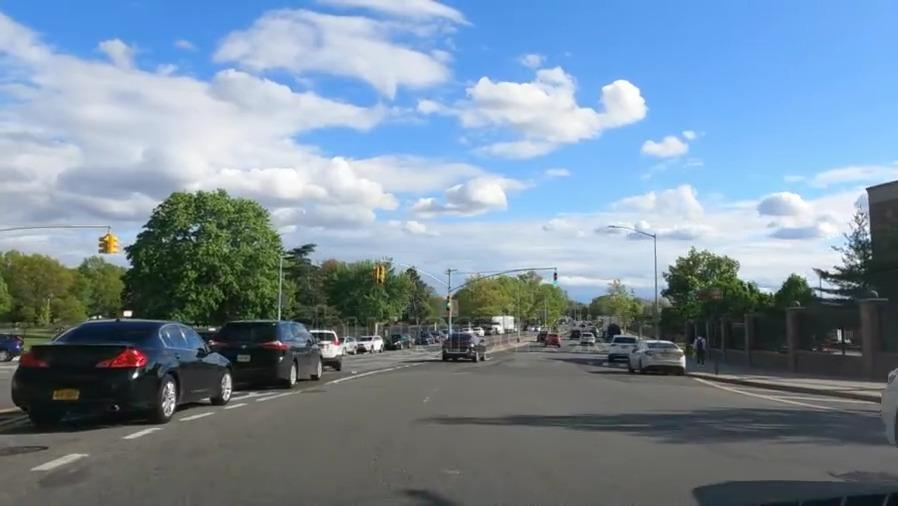car: (17, 327, 235, 425), (210, 318, 325, 387), (631, 336, 685, 376), (878, 361, 898, 447), (310, 325, 343, 368), (444, 332, 487, 362), (1, 328, 25, 364), (608, 331, 635, 363), (356, 335, 383, 354), (389, 334, 412, 349), (342, 334, 355, 356), (414, 332, 435, 344), (548, 335, 563, 347), (581, 333, 596, 344), (537, 330, 548, 341)
manhole: (2, 437, 49, 460)
person: (693, 335, 710, 367)
traffic light: (99, 230, 119, 259), (370, 262, 387, 287), (549, 267, 563, 287), (444, 293, 455, 315)
wheel: (153, 371, 182, 424), (213, 364, 235, 403), (280, 355, 303, 391), (309, 357, 325, 381)
